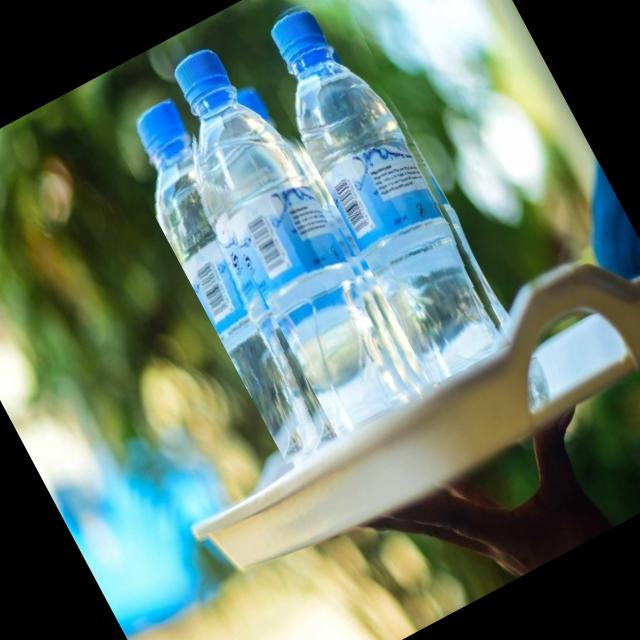plastic bottle: (142, 20, 434, 439), (242, 0, 525, 385), (109, 92, 358, 467)
